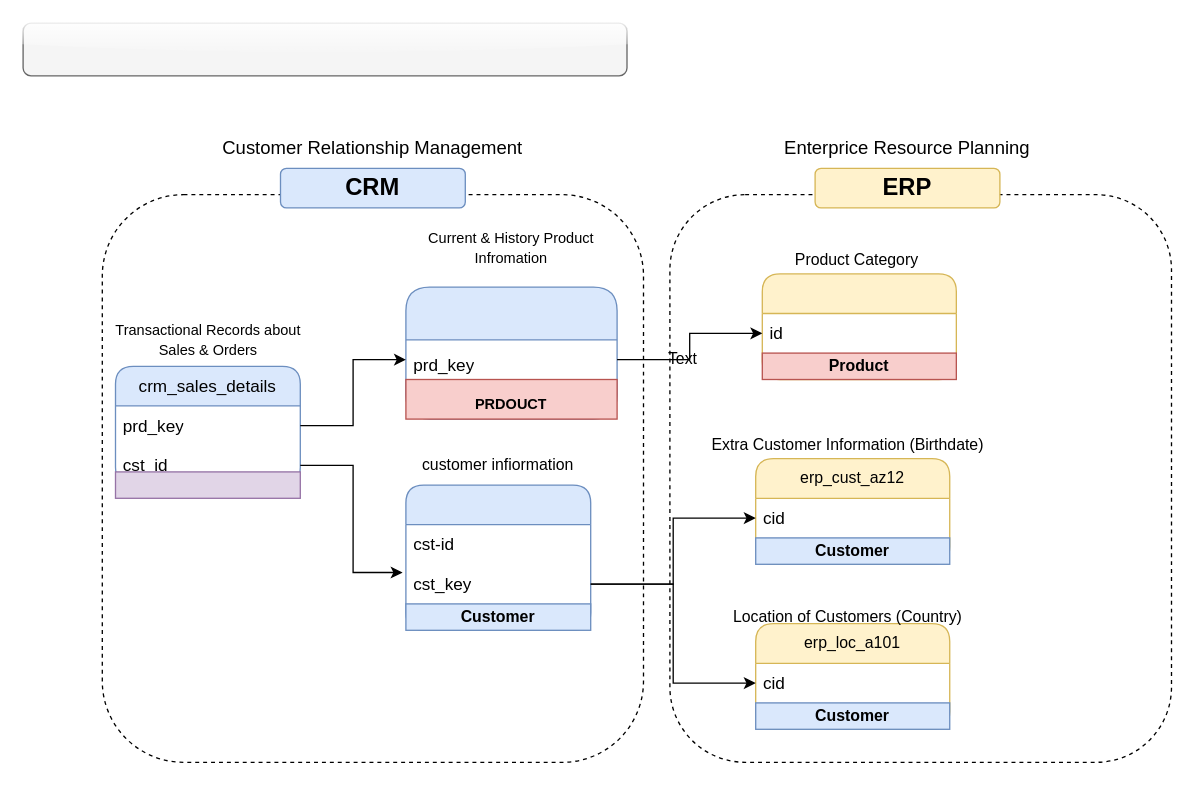
The diagram is 1195 pixels wide and 785 high, and some of its shapes have lost their labels. The shapes that lost their labels are listed below. From the top down, each one's box as (x1, y1, x2, y2) in pixels, then its label:
(22, 22, 627, 76): Data Integration (how to tables are related)
(761, 273, 956, 380): erp_px_cat_g1v2
(405, 286, 617, 419): crm_prd_info
(114, 471, 300, 498): SALES
(405, 484, 591, 630): crm_cust_info
